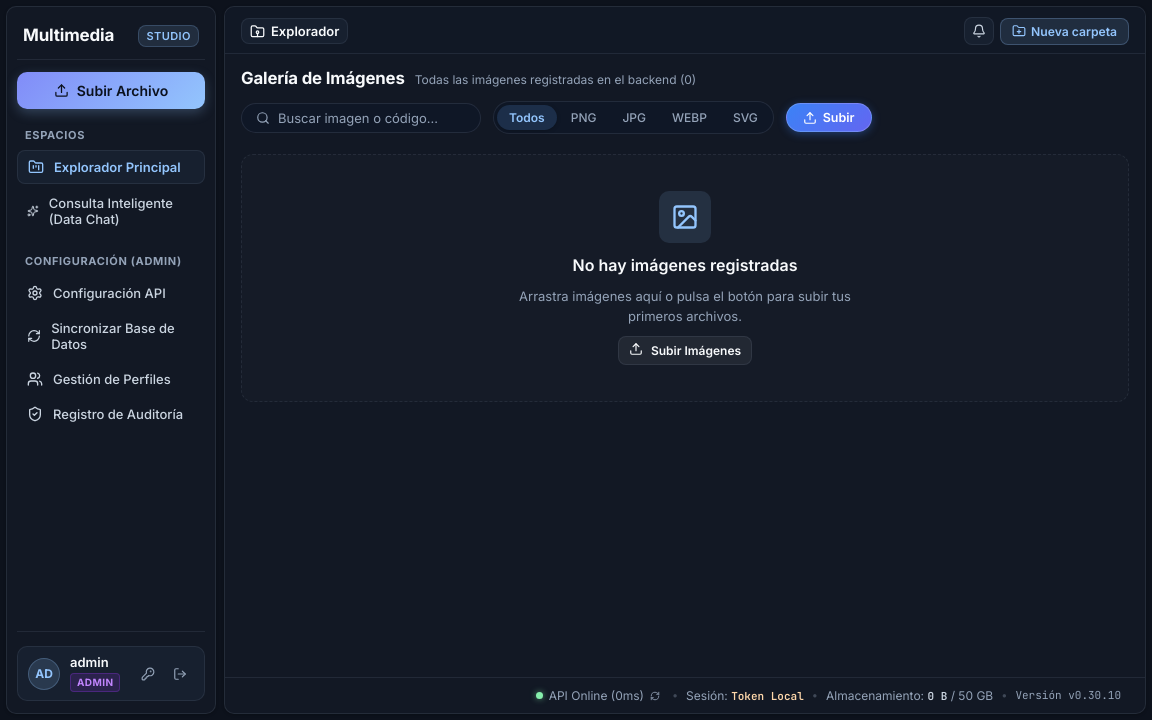
it: App Root Integration › logs out and remains in LoginView on refresh
Click the button named "Cerrar sesión" at [180, 674], box [166,660,194,688]
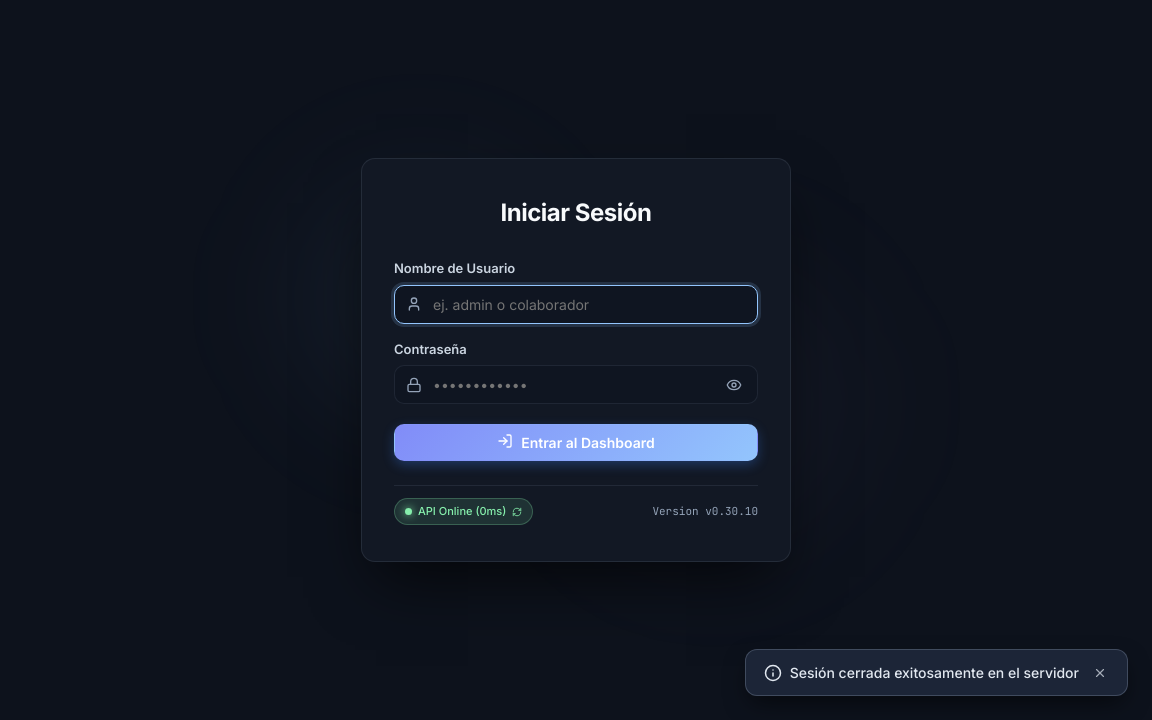
Now the heading "Iniciar Sesión" is shown, box [500,195,652,231]
